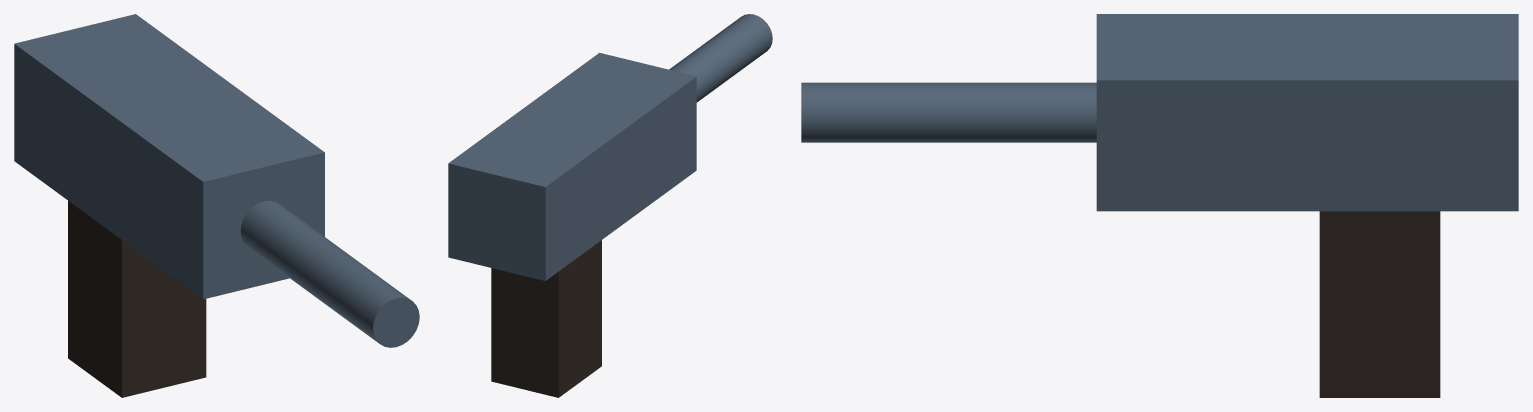
File: test_weapon.glb
The picture shows the model from 3 angles, left to right: view 1: azimuth 30°, elevation 25°; view 2: azimuth 150°, elevation 25°; view 3: azimuth 270°, elevation 25°; orthographic projection. The views are drawn at different scales.
Visible parts, largest first — view 1: receiver, grip, barrel; view 2: receiver, grip, barrel; view 3: receiver, grip, barrel.
Boxes of the visible parts, x1,y1,x2,y2 form: receiver: [14, 14, 324, 299]; grip: [68, 201, 206, 397]; barrel: [240, 201, 419, 347]; receiver: [448, 52, 696, 280]; grip: [491, 240, 601, 397]; barrel: [669, 14, 772, 102]; receiver: [1096, 14, 1518, 211]; grip: [1319, 211, 1440, 397]; barrel: [801, 82, 1096, 142].
Size of the model in its own units: 0.13 by 0.3 by 0.595.
